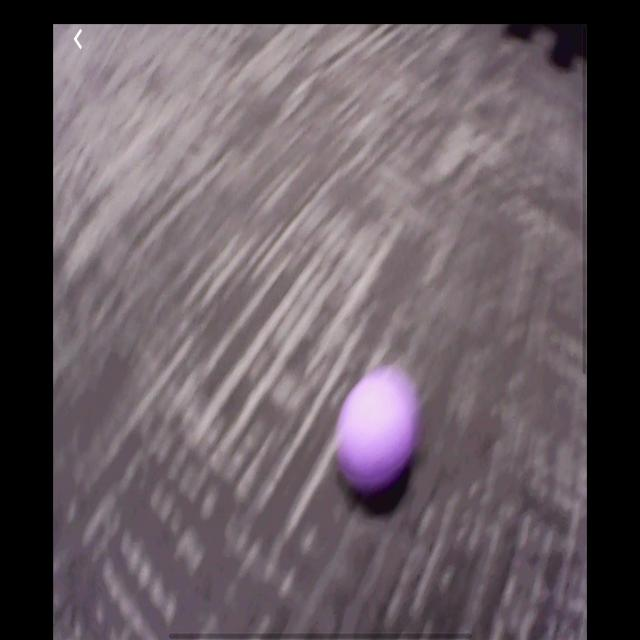ball: (339, 377, 421, 495)
